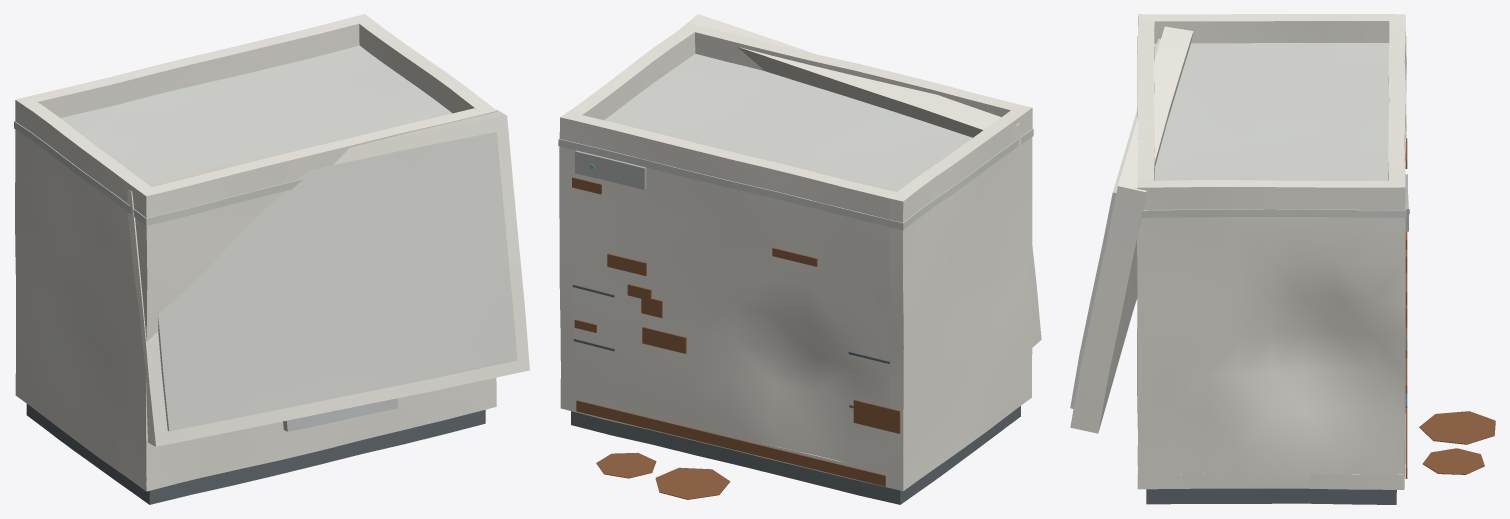
Rendered from chest_freezer_broken.fbx.
3 views of the same model, side by side, from view 1: azimuth 30°, elevation 25°; view 2: azimuth 150°, elevation 25°; view 3: azimuth 270°, elevation 25° (orthographic). The views are drawn at different scales.
Parts seen in each view (by area): view 1: chest_freezer_broken; view 2: chest_freezer_broken, chest_freezer_broken_debris; view 3: chest_freezer_broken, chest_freezer_broken_debris.
Part boxes in pixels (left/top/right/bottom): chest_freezer_broken: left=14, top=14, right=529, bottom=504; chest_freezer_broken: left=558, top=14, right=1041, bottom=504; chest_freezer_broken_debris: left=596, top=453, right=730, bottom=499; chest_freezer_broken: left=1070, top=14, right=1409, bottom=504; chest_freezer_broken_debris: left=1419, top=411, right=1495, bottom=474.
Size of the model in its own units: 101 by 86.73 by 104.
